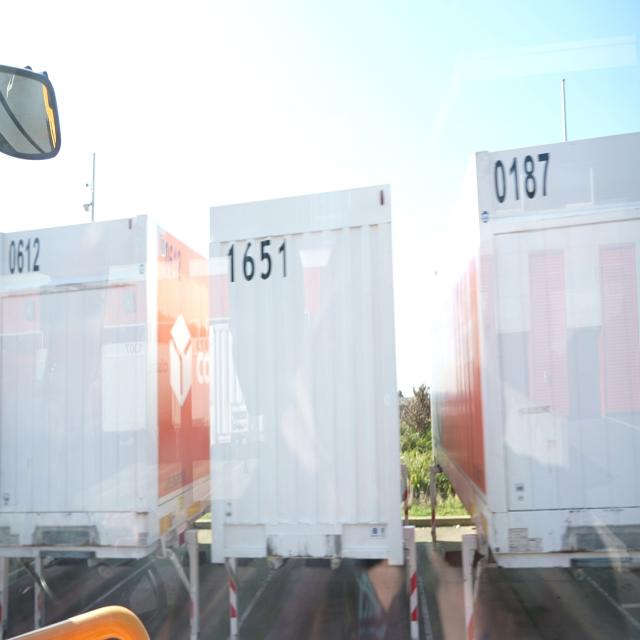Code: (219, 227, 295, 293), (489, 148, 556, 209), (6, 232, 47, 288)
